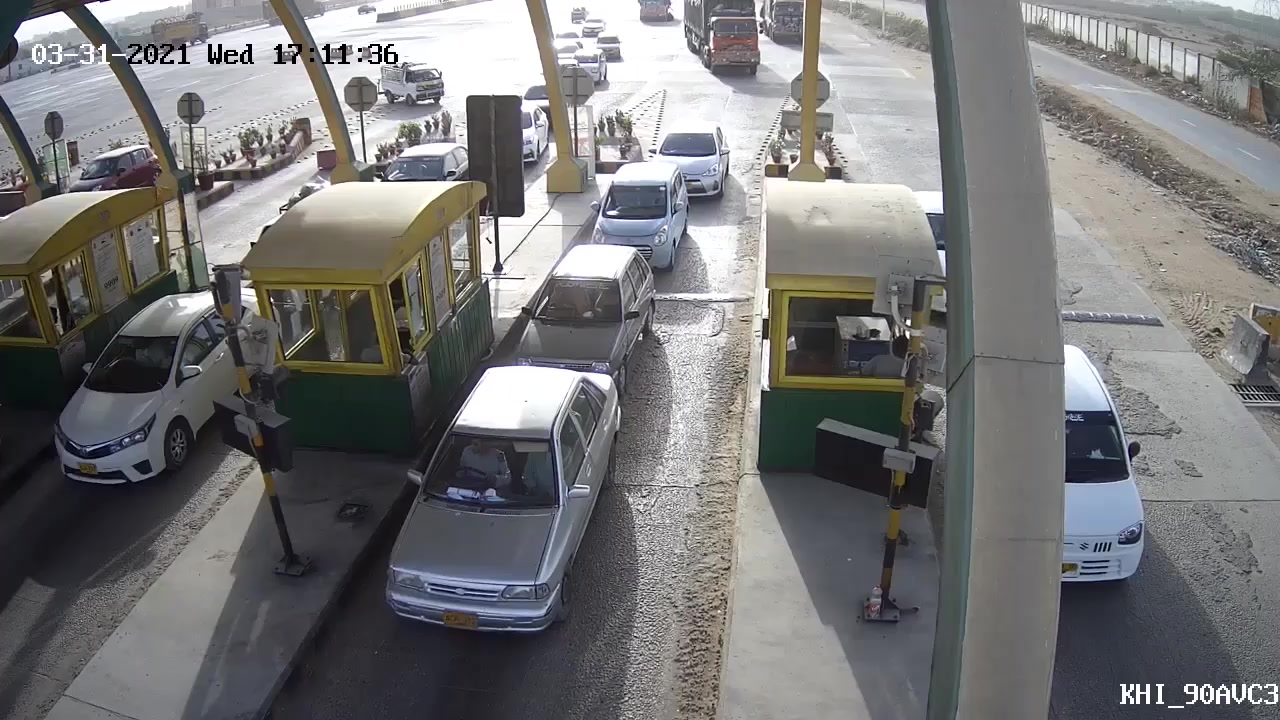F1: (374, 360, 625, 647), (494, 241, 659, 385), (590, 154, 692, 273), (645, 127, 735, 201)
